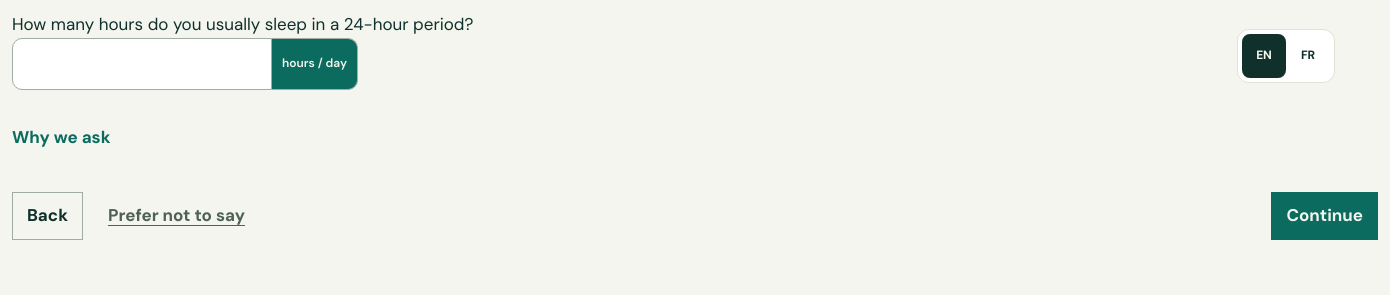
uses a practical explanation for sleep while preserving the canonical question
The width and height of the screenshot is (1390, 295).
Click the button with aria-label "Français".
click(1308, 56)  # box [1286,34,1330,78]
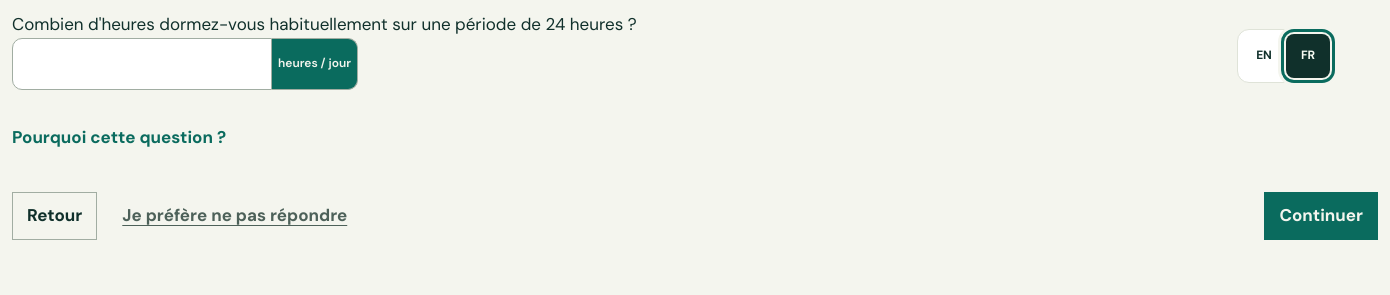
Click the heading "Pourquoi cette question ?".
click(119, 137)  # box [12,126,226,148]
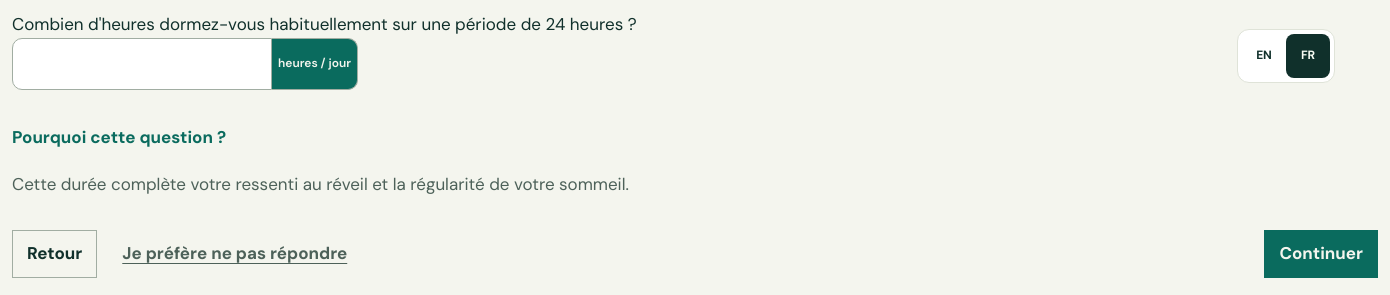
Check: the text "Cette durée complète votre ressenti" is shown, box [12,172,629,194]
